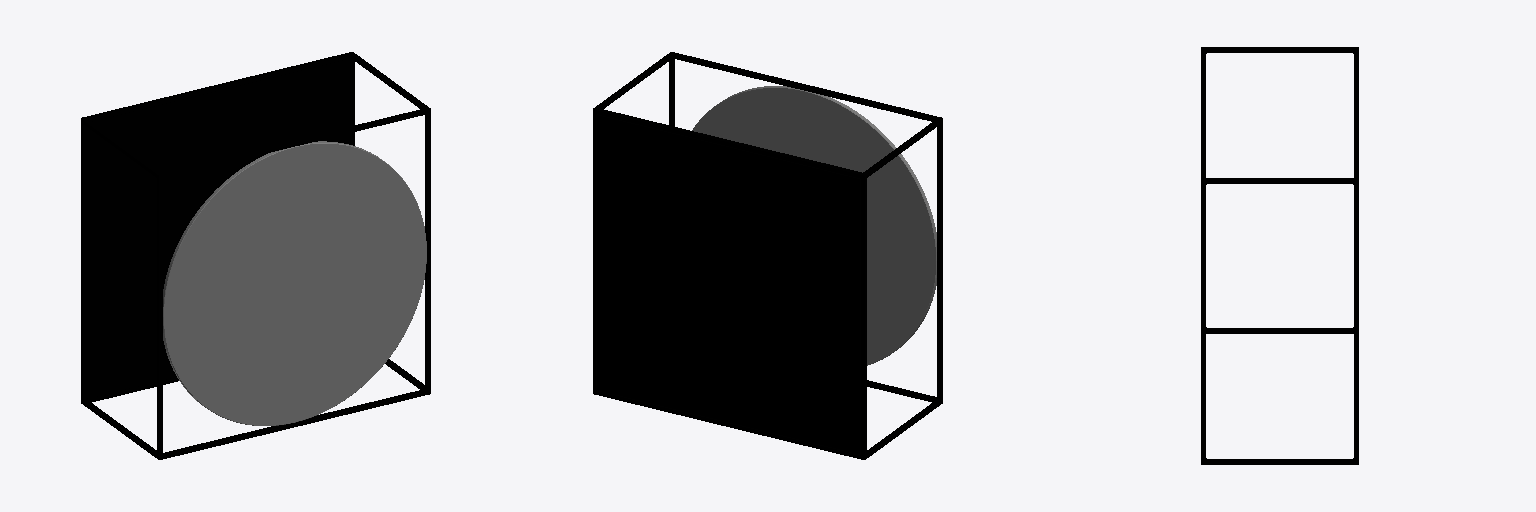
File: Roche_Bobois_G3_Table_with_Tray_mat(1).obj
The picture shows the model from 3 angles: view 1: azimuth 30°, elevation 25°; view 2: azimuth 150°, elevation 25°; view 3: azimuth 270°, elevation 25°; orthographic projection.
Parts seen in each view (by area): view 1: Roche_Bobois_G3_Table_with_Tray_mat1; view 2: Roche_Bobois_G3_Table_with_Tray_mat1; view 3: Roche_Bobois_G3_Table_with_Tray_mat1.
Boxes of the visible parts, <box> form: Roche_Bobois_G3_Table_with_Tray_mat1: <box>81,52,430,459</box>; Roche_Bobois_G3_Table_with_Tray_mat1: <box>593,52,942,459</box>; Roche_Bobois_G3_Table_with_Tray_mat1: <box>1201,47,1358,464</box>.
Bounding box in the file's own units: 70 × 70 × 35.